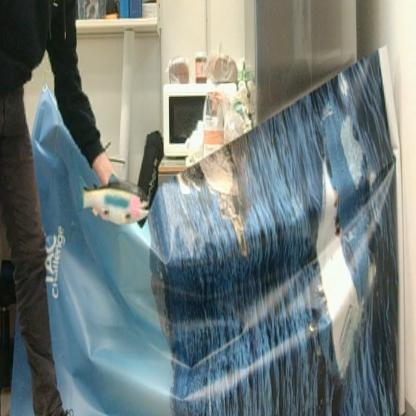rubberfish: (78, 174, 150, 226)
